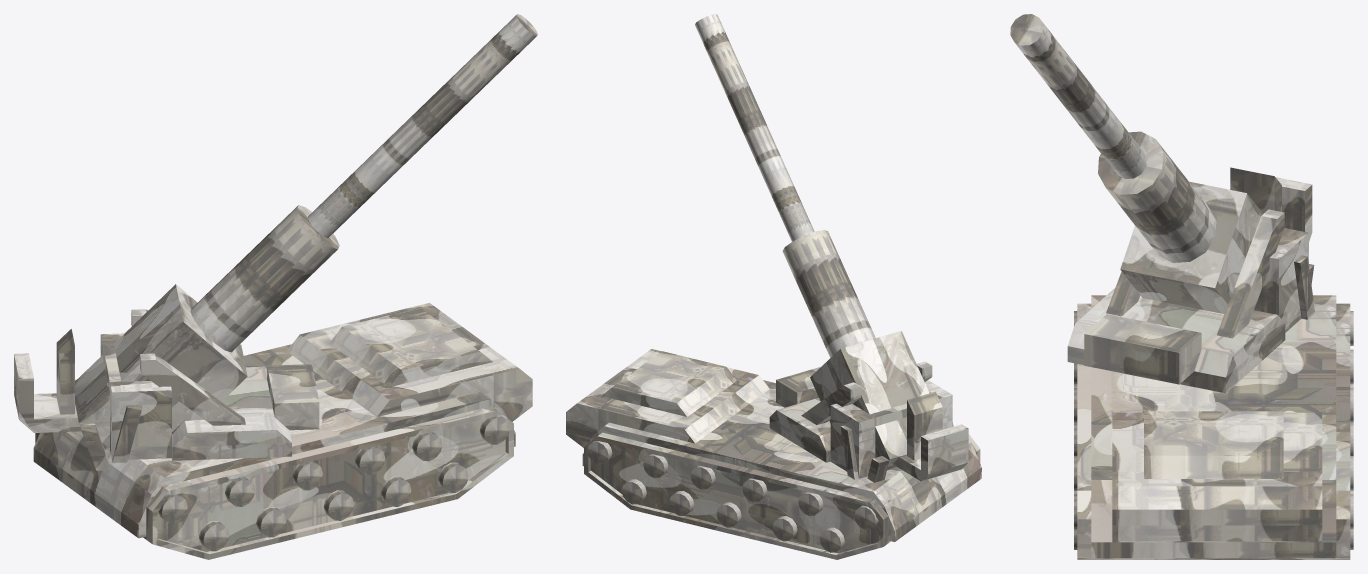
The model's file is ArtilleryUnit.fbx.
The picture shows the model from 3 angles, left to right: view 1: azimuth 30°, elevation 25°; view 2: azimuth 150°, elevation 25°; view 3: azimuth 270°, elevation 25°; orthographic projection. The views are drawn at different scales.
Visible parts, largest first — view 1: TreadsOutside, TreadCover, BarrelBody, FrontArmour, BarrelBase, BarrelEnd, TopStorage, TurretRotation, TurretBase, CenterMotor, FrontPiston__1_, GunnerSeat (+14 smaller); view 2: TreadsOutside, TreadCover, BarrelBody, FrontArmour, BarrelEnd, BarrelBase, TopStorage, TurretBase, GunnerSeat, TurretRotation, GunnerPanel, CenterMotor (+2 smaller); view 3: TreadCover, FrontArmour, TopStorage, BarrelBody, BarrelBase, TurretRotation, TreadsOutside, BarrelEnd, CenterMotor, FrontPiston, TurretBase, GunnerPanel (+3 smaller).
Boxes of the visible parts, bbox=[...] form: TreadsOutside: bbox=[35, 406, 513, 559]; TreadCover: bbox=[33, 344, 515, 538]; BarrelBody: bbox=[75, 284, 247, 448]; FrontArmour: bbox=[287, 303, 532, 421]; BarrelBase: bbox=[190, 205, 339, 352]; BarrelEnd: bbox=[307, 14, 537, 237]; TopStorage: bbox=[329, 307, 492, 387]; TurretRotation: bbox=[172, 366, 291, 460]; TurretBase: bbox=[100, 333, 171, 459]; CenterMotor: bbox=[267, 364, 319, 430]; FrontPiston__1_: bbox=[140, 353, 245, 425]; GunnerSeat: bbox=[14, 353, 81, 432]; TreadsOutside: bbox=[584, 432, 980, 559]; TreadCover: bbox=[582, 380, 981, 541]; BarrelBody: bbox=[810, 331, 945, 469]; FrontArmour: bbox=[566, 349, 769, 447]; BarrelEnd: bbox=[695, 14, 814, 241]; BarrelBase: bbox=[782, 230, 875, 357]; TopStorage: bbox=[602, 351, 736, 416]; TurretBase: bbox=[830, 380, 952, 478]; GunnerSeat: bbox=[892, 424, 968, 481]; TurretRotation: bbox=[769, 398, 830, 462]; GunnerPanel: bbox=[907, 391, 942, 460]; CenterMotor: bbox=[776, 366, 820, 407]; TreadCover: bbox=[1091, 295, 1336, 558]; FrontArmour: bbox=[1112, 412, 1322, 542]; TopStorage: bbox=[1144, 411, 1283, 478]; BarrelBody: bbox=[1120, 181, 1262, 313]; BarrelBase: bbox=[1098, 131, 1216, 262]; TurretRotation: bbox=[1067, 287, 1285, 393]; TreadsOutside: bbox=[1077, 303, 1350, 559]; BarrelEnd: bbox=[1010, 14, 1146, 178]; CenterMotor: bbox=[1084, 314, 1201, 384]; FrontPiston: bbox=[1217, 209, 1284, 338]; TurretBase: bbox=[1254, 228, 1308, 332]; GunnerPanel: bbox=[1230, 167, 1281, 213].
Size of the model in its own units: 87.49 by 89.66 by 49.1.
Materials: 3 (3 with a texture image).
